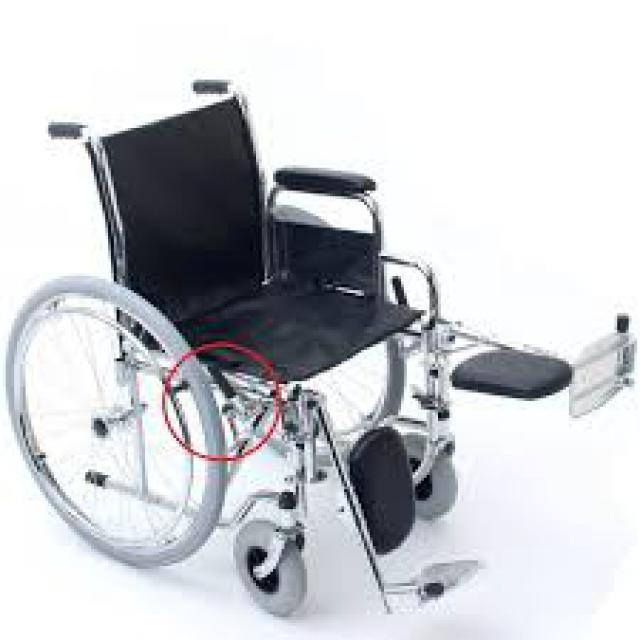wheelchair: (8, 68, 638, 623)
